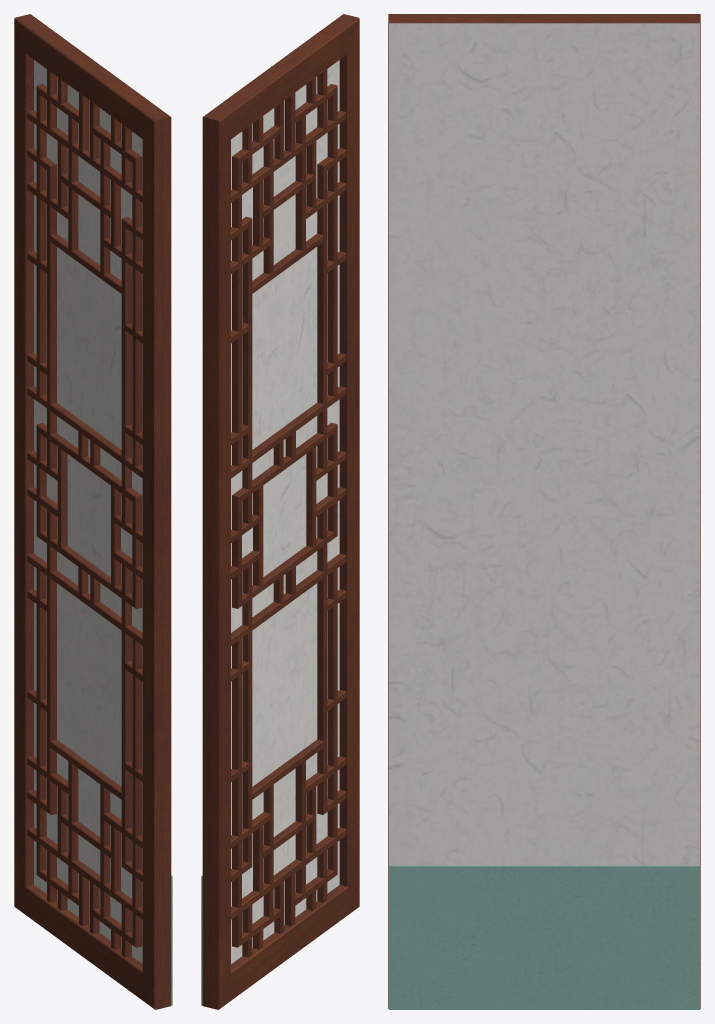
The model's file is SM_Door16F.fbx.
3 views of the same model, side by side, from view 1: azimuth 30°, elevation 25°; view 2: azimuth 150°, elevation 25°; view 3: azimuth 270°, elevation 25° (orthographic). The views are drawn at different scales.
Visible parts, largest first — view 1: SM_Door16F; view 2: SM_Door16F; view 3: SM_Door16F.
Part boxes in pixels (x1,y1,x2,y2): SM_Door16F: (14,14,172,1009); SM_Door16F: (201,14,359,1009); SM_Door16F: (388,14,700,1009).
Size of the model in its own units: 3.77 by 49.31 by 172.
